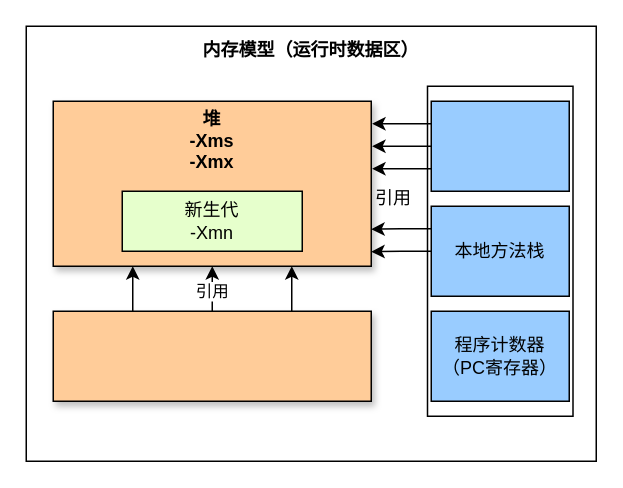
Some shapes in this 623 by 488 pixel diagram are drawn without their labels. The shapes that lost their labels are listed below. From the top down, each one's centre as x and y in pixels, then its label:
At point (499, 145): "线程栈 -Xss".
At point (213, 358): "方法区（元空间） -XX:MetaspaceSize -XX:MaxMetaspaceSize".
